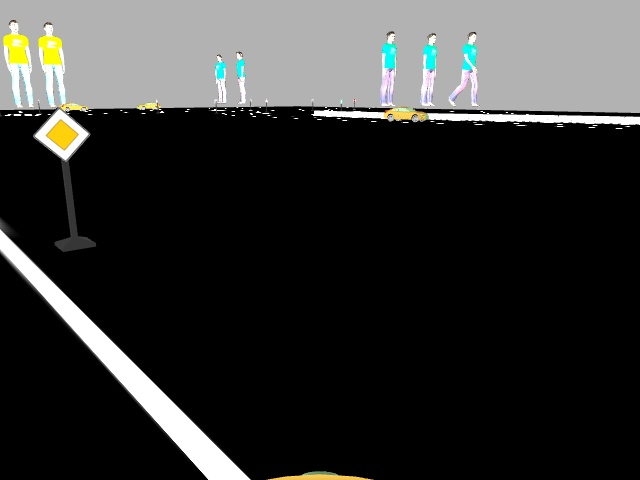Priority: (35, 107, 91, 159)
